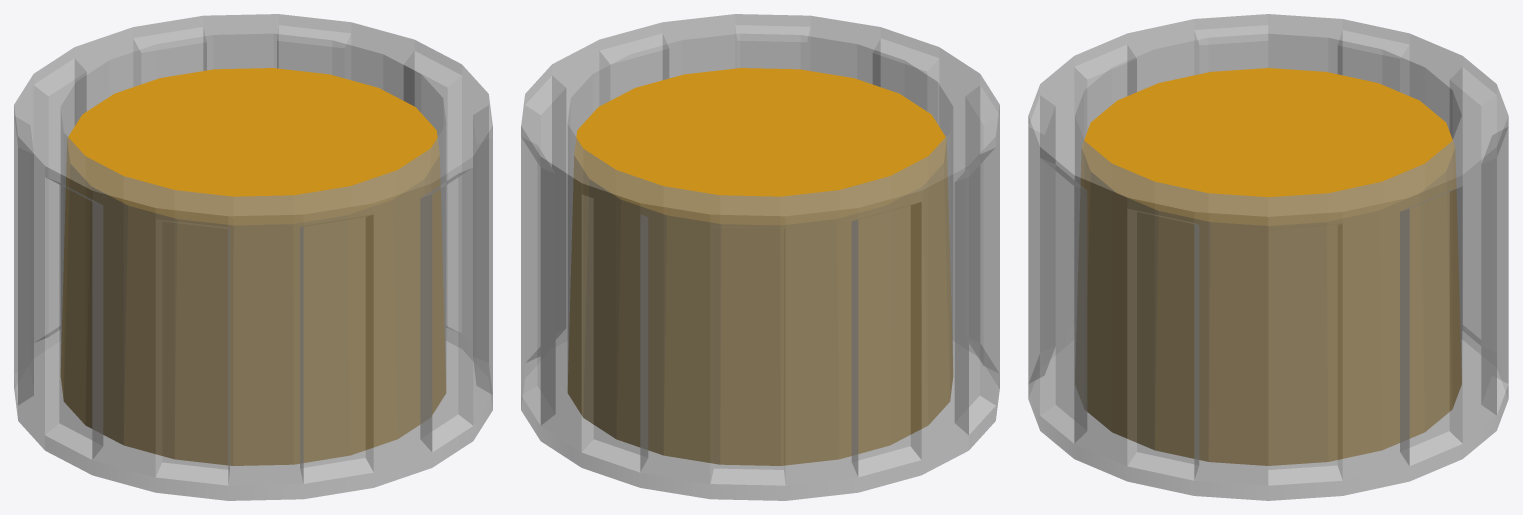
The model's file is Shot.fbx.
3 renders of one model, left to right at view 1: azimuth 30°, elevation 25°; view 2: azimuth 150°, elevation 25°; view 3: azimuth 270°, elevation 25°, orthographic.
Visible parts, largest first — view 1: pCylinder1; view 2: pCylinder1; view 3: pCylinder1.
Part boxes in pixels (box(x1,y1,x2,y2)): pCylinder1: box(14, 14, 492, 500); pCylinder1: box(521, 14, 999, 500); pCylinder1: box(1028, 14, 1508, 500).
Bounding box in the file's own units: 2 × 1.31 × 2.
